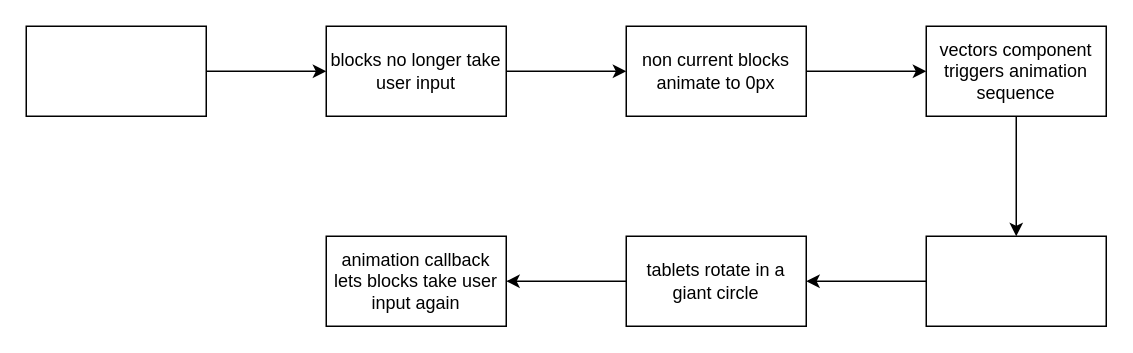
The diagram is 1133 pixels wide and 353 high, and some of its shapes have lost their labels. The centre of each missing label's shape, as x and y in pixels:
"animation transition applies rotation and translation to 4 tablets" belongs at pixel 1015 280.
"block reaches 100px threshold" belongs at pixel 115 70.
